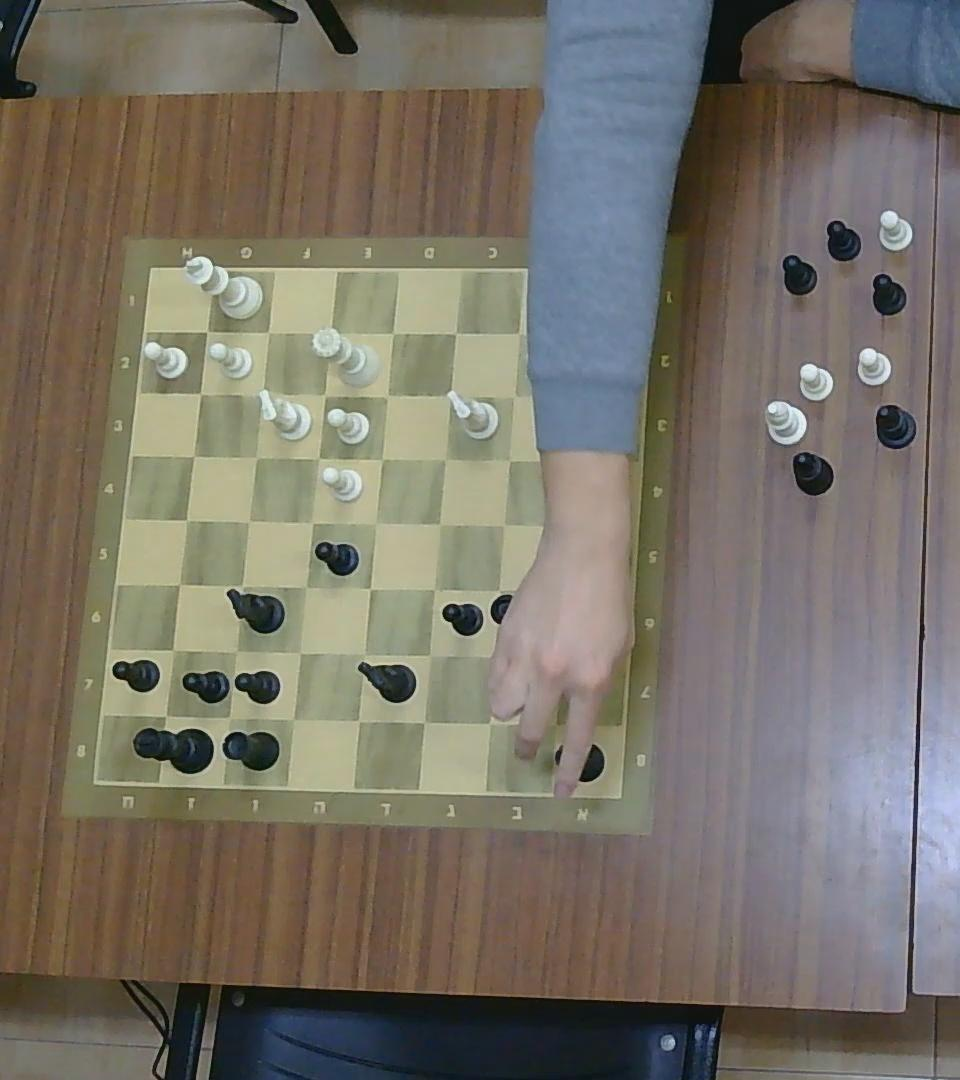xcorner: (476, 708, 503, 736), (215, 702, 241, 731), (554, 444, 580, 473), (546, 514, 573, 541), (280, 704, 305, 733), (571, 320, 596, 349), (411, 708, 437, 735), (544, 710, 570, 737), (153, 702, 179, 728), (481, 643, 507, 669), (346, 707, 371, 734), (160, 636, 185, 663), (379, 318, 404, 345), (547, 644, 572, 671), (549, 580, 574, 607), (167, 572, 192, 598), (349, 640, 375, 665), (508, 319, 533, 345), (484, 577, 509, 603), (287, 639, 311, 666), (418, 642, 443, 667), (223, 638, 247, 664), (229, 572, 253, 598), (174, 507, 198, 532), (491, 512, 515, 537), (427, 510, 451, 535), (444, 319, 467, 345), (318, 319, 341, 345), (236, 507, 259, 532), (564, 381, 587, 406), (181, 443, 204, 467), (294, 575, 317, 599), (245, 445, 268, 469), (300, 509, 323, 533), (306, 445, 329, 469), (421, 577, 445, 600), (250, 381, 273, 405), (364, 511, 387, 534), (376, 383, 399, 406), (498, 447, 521, 470), (438, 383, 461, 406), (503, 383, 526, 406), (196, 318, 218, 342), (359, 575, 381, 599), (188, 381, 210, 405), (257, 320, 279, 344), (371, 447, 392, 470), (435, 447, 455, 470), (315, 383, 334, 405)
